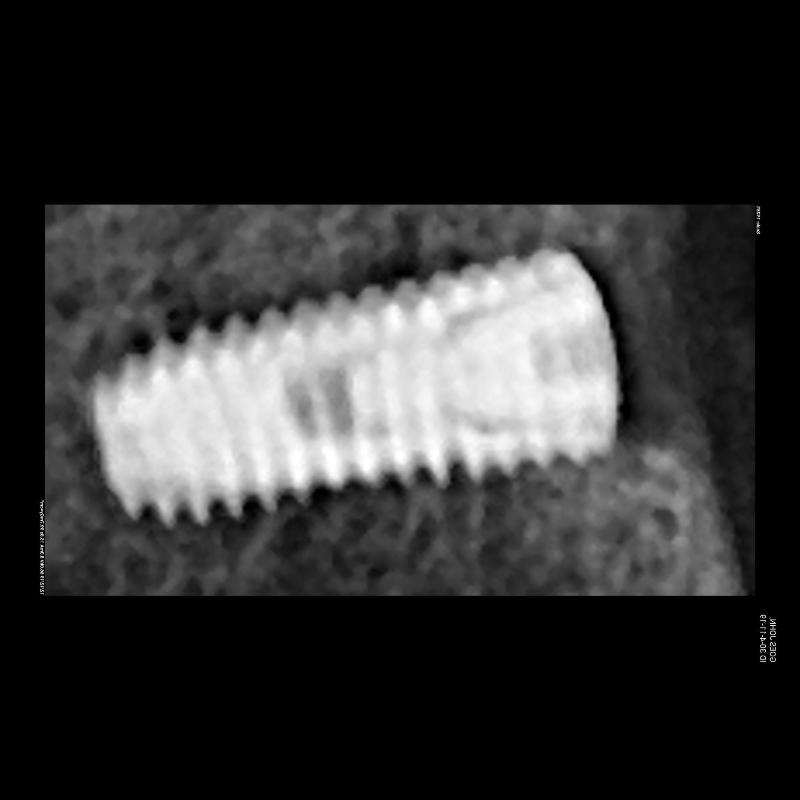osstem: (75, 236, 626, 538)
